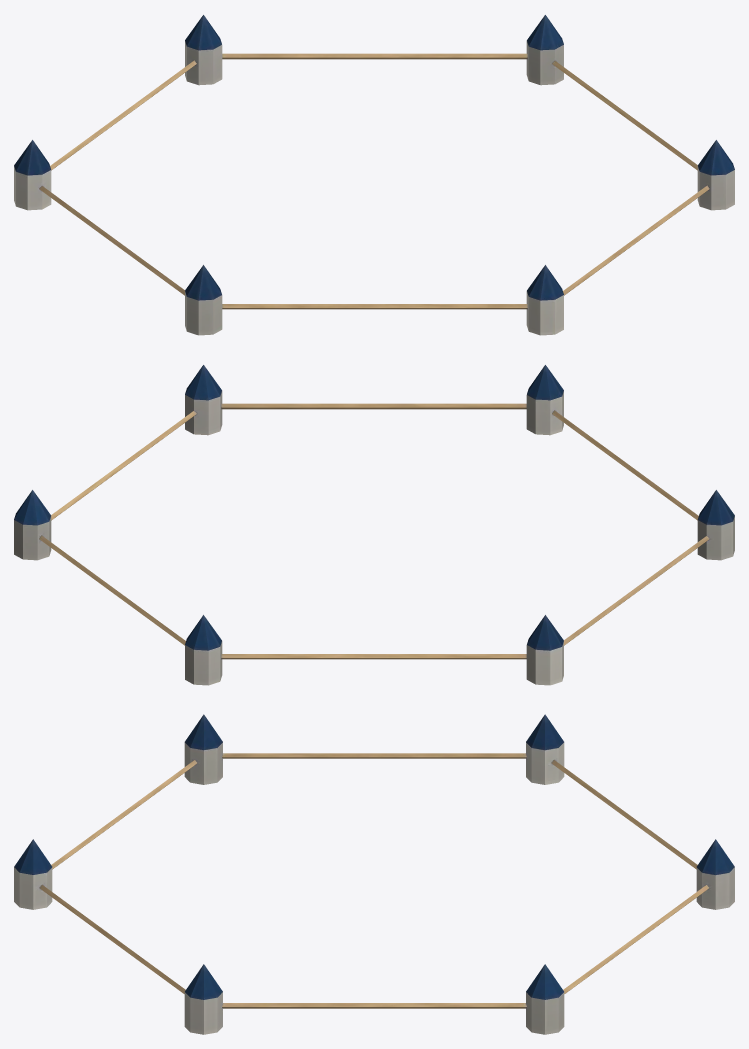
The model's file is raft-free.glb.
3 renders of one model, top to bottom at view 1: azimuth 30°, elevation 25°; view 2: azimuth 150°, elevation 25°; view 3: azimuth 270°, elevation 25°, orthographic.
Visible parts, largest first — view 1: raft-free; view 2: raft-free; view 3: raft-free.
Boxes of the visible parts, x1=… form: raft-free: x1=14, y1=15, x2=734, y2=335; raft-free: x1=14, y1=365, x2=734, y2=685; raft-free: x1=14, y1=714, x2=734, y2=1034.
Bounding box in the file's own units: 1.64 × 0.18 × 1.87.
Materials: 1 (1 with a texture image).
